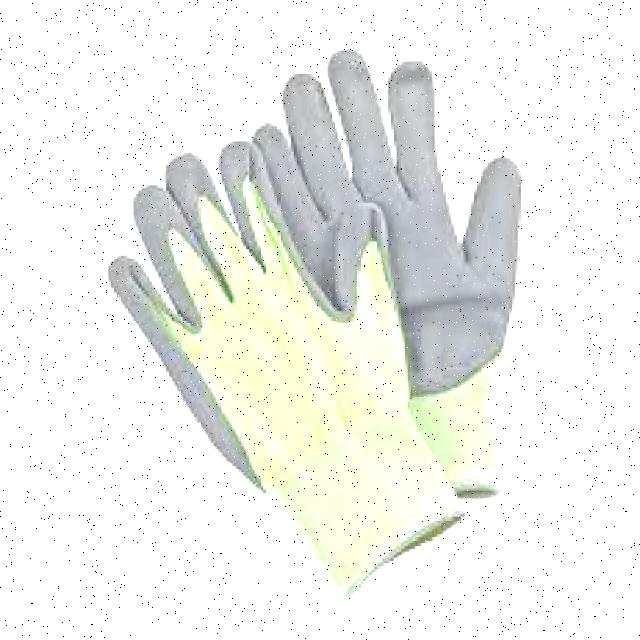Gloves: (264, 30, 581, 508), (89, 141, 406, 608)
